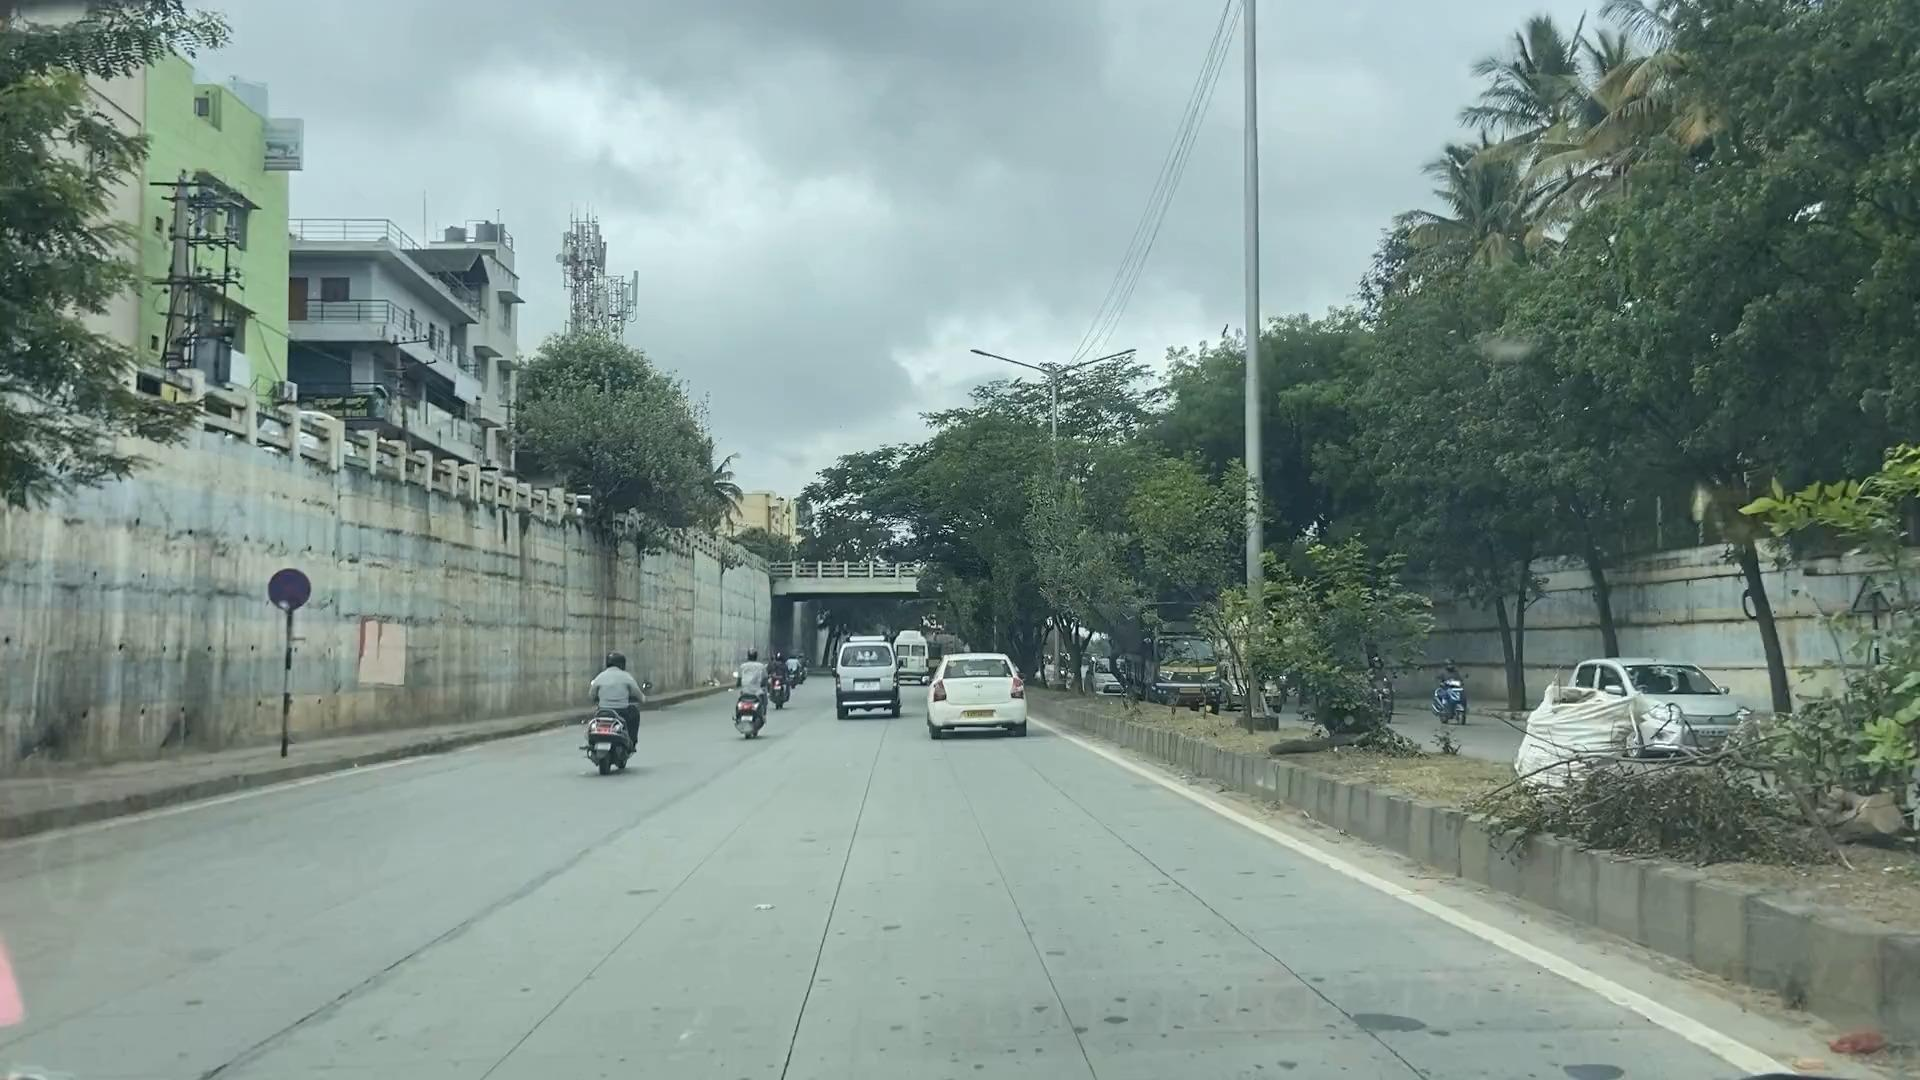LMV: (906, 638, 1043, 753), (571, 644, 645, 769)
